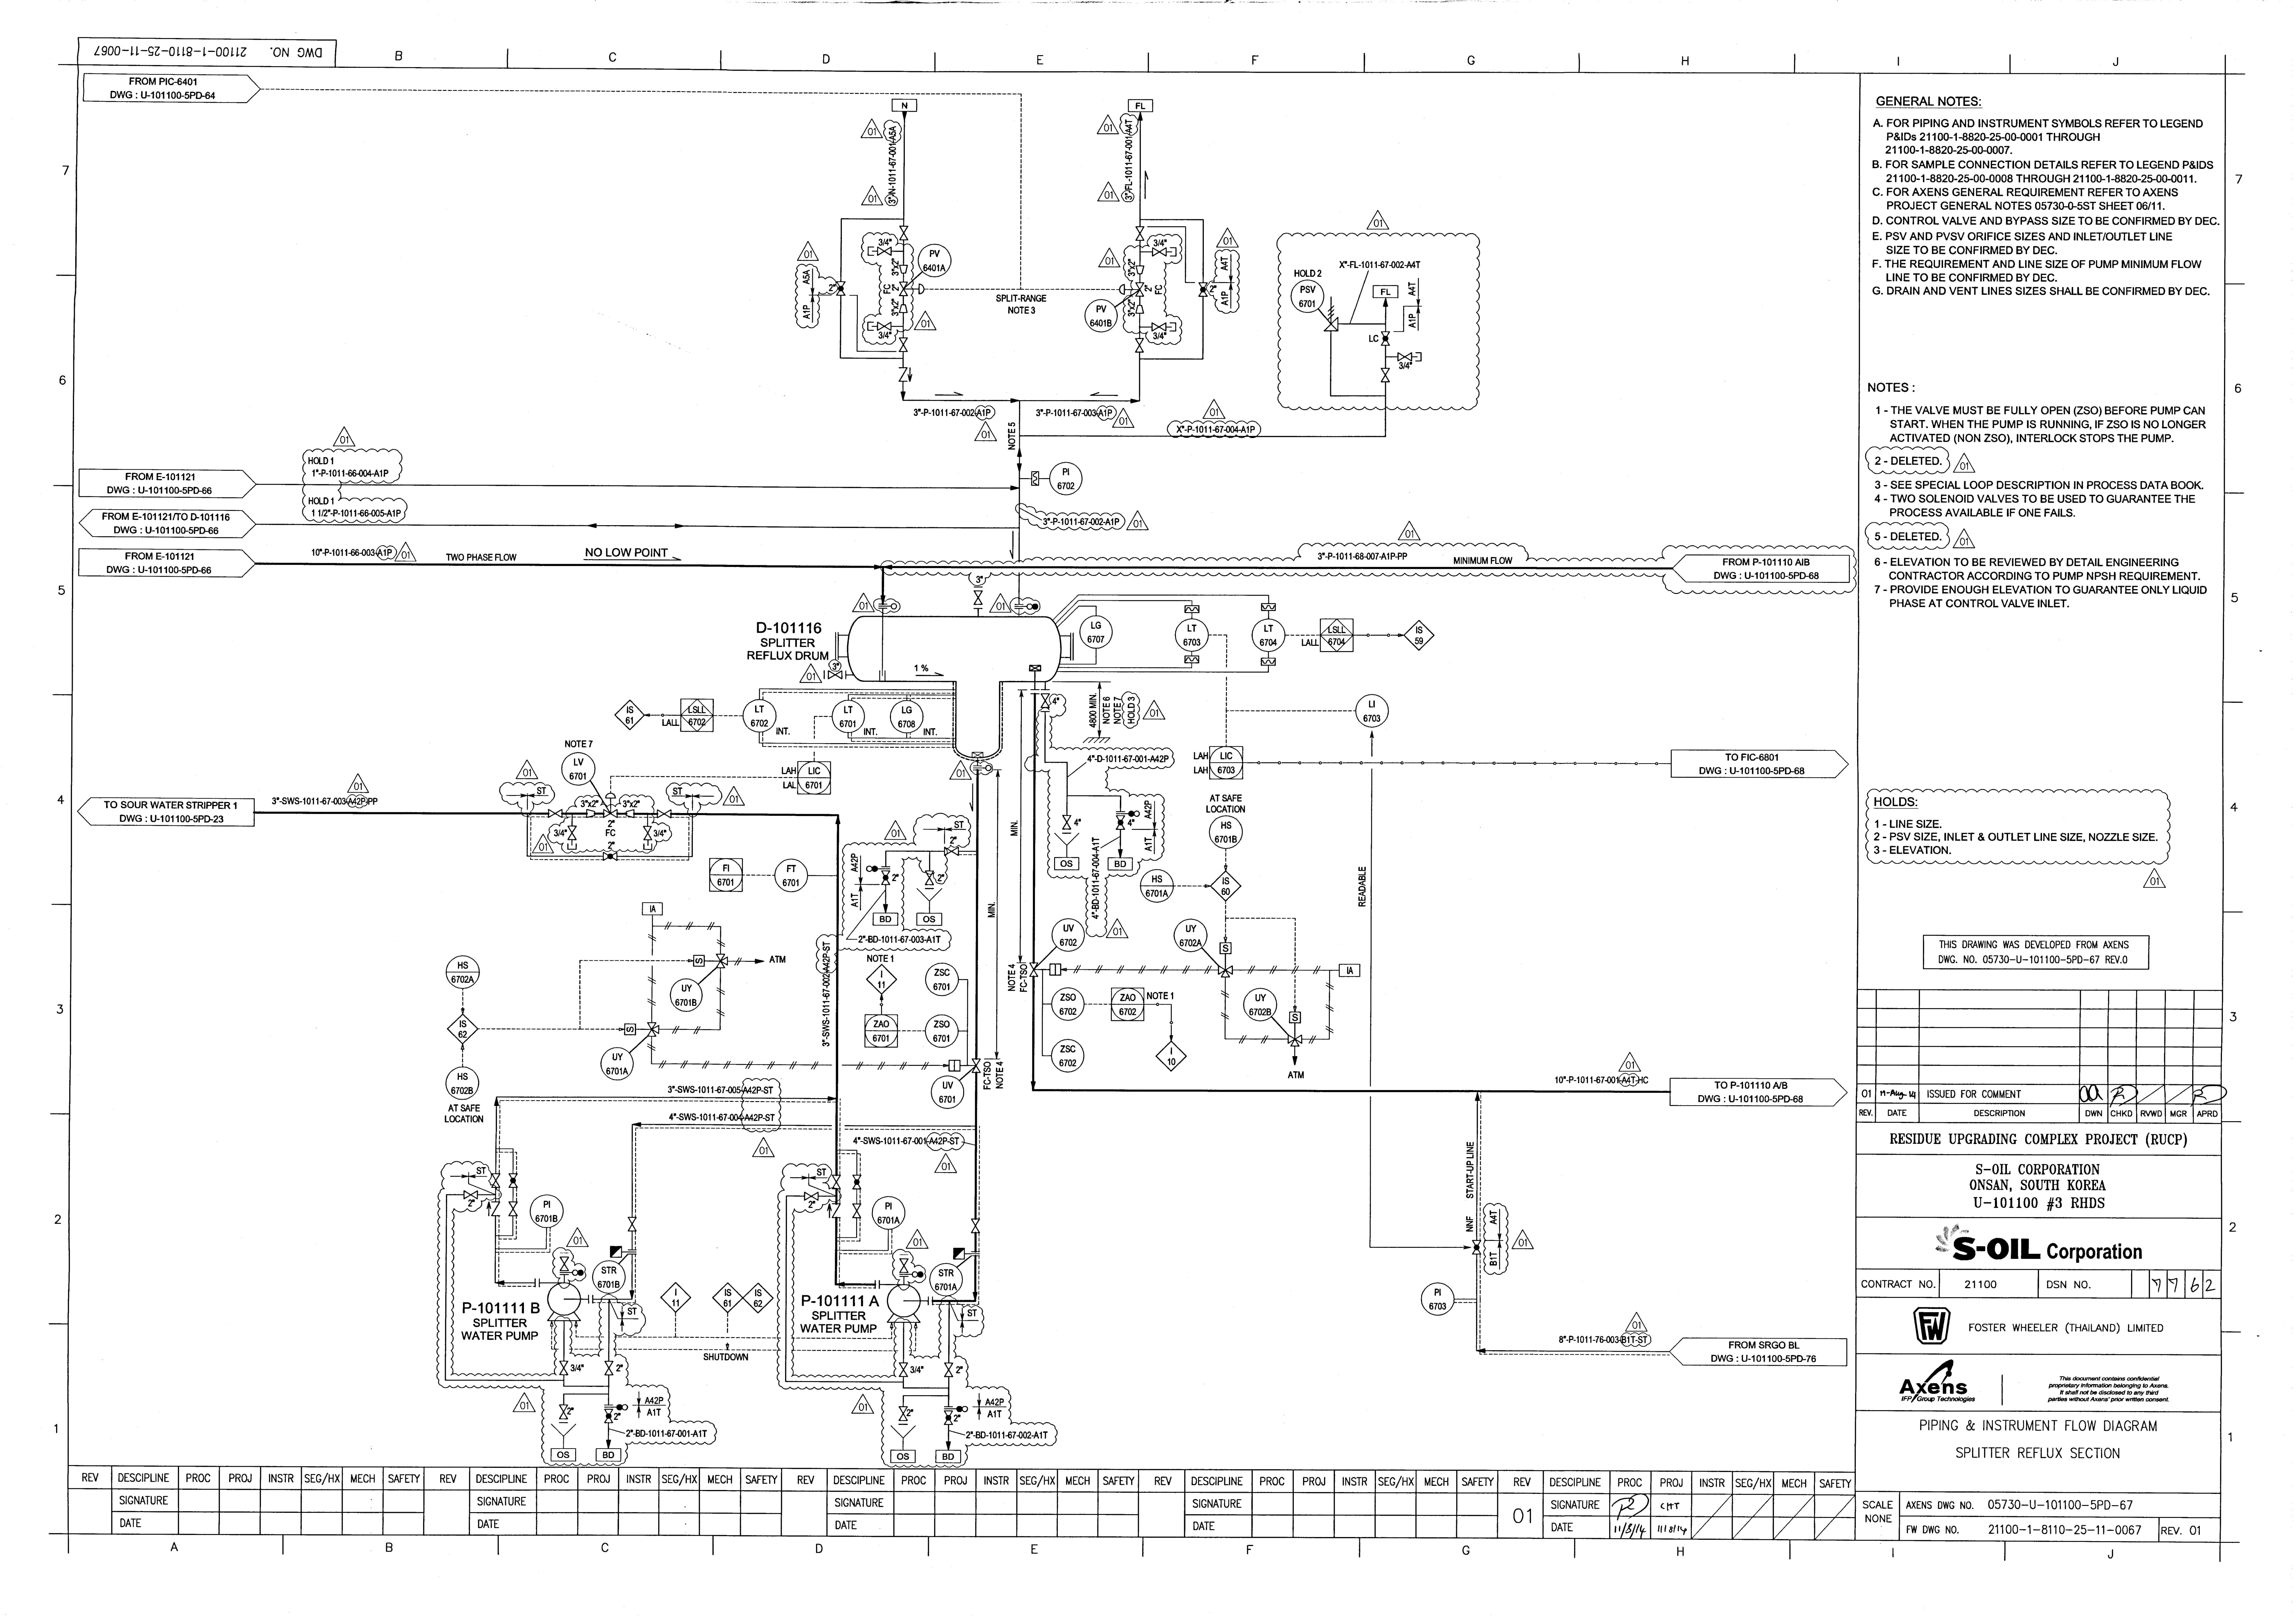NAS: (1028, 462, 1086, 496), (669, 977, 704, 1014), (1214, 940, 1236, 981), (1026, 958, 1068, 979), (944, 1056, 982, 1077), (685, 953, 709, 968), (1028, 958, 1044, 979), (1215, 963, 1236, 979), (616, 1023, 639, 1037), (715, 953, 730, 970), (827, 1203, 842, 1219), (898, 366, 912, 383), (646, 1021, 660, 1038), (1030, 469, 1042, 489), (487, 1201, 501, 1217), (609, 1245, 623, 1259), (970, 1058, 981, 1075), (967, 800, 981, 813), (636, 1394, 643, 1415), (972, 765, 993, 772), (615, 1403, 630, 1411), (970, 751, 986, 760), (492, 1189, 503, 1201), (972, 763, 984, 774), (1413, 352, 1424, 362), (911, 1271, 925, 1278), (643, 842, 653, 851), (566, 842, 578, 849), (867, 320, 874, 331), (1042, 518, 1051, 525)
butterfly0: (602, 851, 618, 862)
butterfly90: (879, 869, 891, 886), (1380, 329, 1391, 347), (835, 280, 846, 298), (851, 1173, 862, 1191), (1116, 814, 1126, 832), (1198, 282, 1208, 298), (604, 1408, 615, 1424), (508, 1173, 518, 1189), (944, 1410, 954, 1425)
reduce0: (585, 809, 595, 818)
reduce180: (625, 809, 636, 820)
reduce270: (898, 263, 909, 275), (1135, 264, 1145, 275)
reduce90: (898, 303, 909, 313), (1135, 303, 1144, 315)
valvecontrol0: (898, 280, 926, 298)
valvecontrol180: (1119, 282, 1145, 298)
valvecontrol90: (602, 791, 620, 820)
valvegate0: (1151, 245, 1168, 257), (876, 245, 893, 257), (1396, 350, 1413, 362), (655, 807, 673, 820), (462, 1189, 480, 1201), (942, 846, 961, 856), (546, 807, 564, 818), (827, 669, 844, 679), (804, 1191, 820, 1201), (1151, 322, 1168, 331), (876, 322, 893, 331)
valvegate90: (1133, 336, 1145, 354), (490, 1171, 501, 1191), (627, 1215, 637, 1235), (566, 825, 578, 841), (898, 224, 909, 242), (898, 336, 909, 354), (1380, 366, 1391, 383), (604, 1359, 615, 1376), (559, 1359, 569, 1376), (643, 825, 653, 842), (832, 1173, 842, 1191), (898, 1404, 909, 1422), (898, 1361, 909, 1378), (944, 1361, 954, 1378), (925, 869, 935, 886), (1061, 814, 1072, 832), (1135, 226, 1145, 242), (559, 1404, 569, 1420), (508, 1201, 518, 1217), (559, 1256, 569, 1271), (851, 1203, 862, 1219), (898, 1257, 909, 1273)
